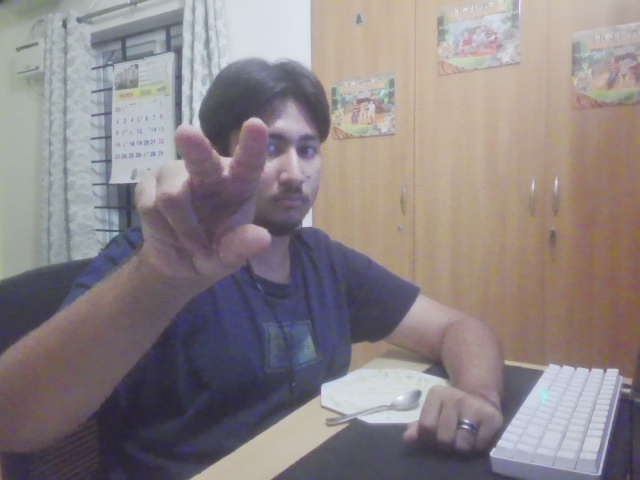no: (118, 112, 275, 290)
